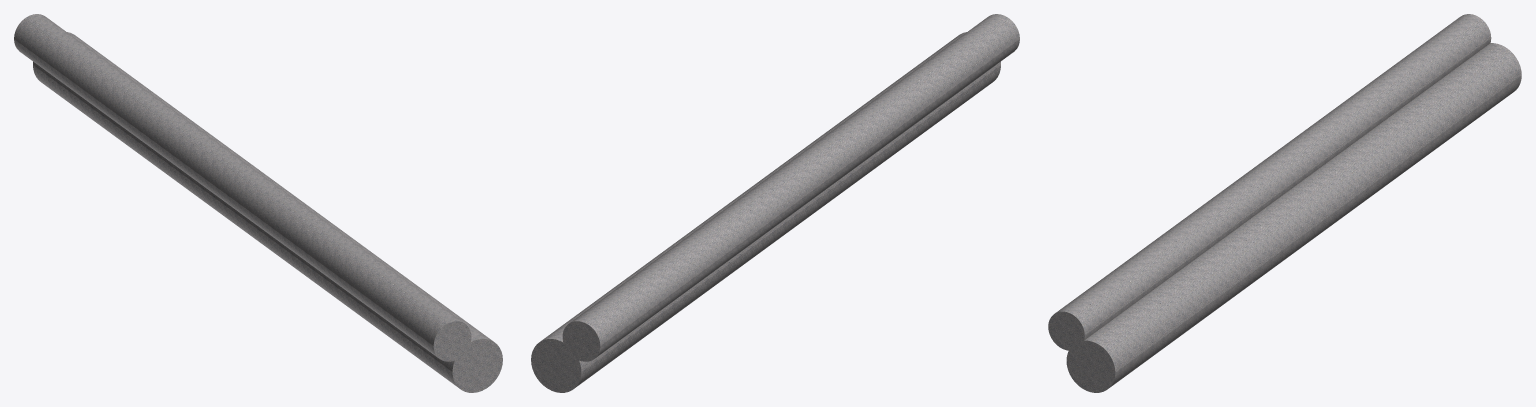
The picture shows the model from 3 angles, left to right: view 1: azimuth 30°, elevation 25°; view 2: azimuth 150°, elevation 25°; view 3: azimuth 330°, elevation 25°; orthographic projection. The views are drawn at different scales.
Parts seen in each view (by area): view 1: 0_2_0_0_3_3_0_0_1; view 2: 0_2_0_0_3_3_0_0_1; view 3: 0_2_0_0_3_3_0_0_1.
Part boxes in pixels (x1,y1,x2,y2): 0_2_0_0_3_3_0_0_1: (14,14,502,392); 0_2_0_0_3_3_0_0_1: (531,14,1019,392); 0_2_0_0_3_3_0_0_1: (1048,14,1521,392).
Size of the model in its own units: 1.1 by 1.16 by 11.53.
2 materials, 2 textured.
